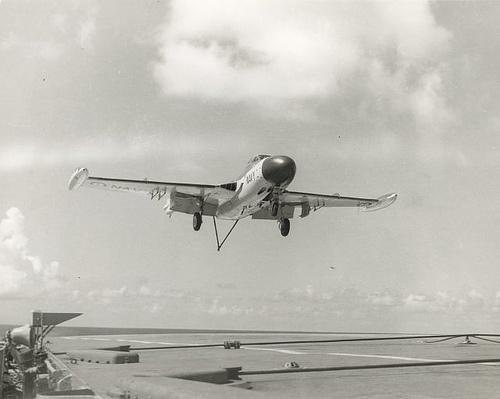aeroplane: (68, 154, 399, 253)
